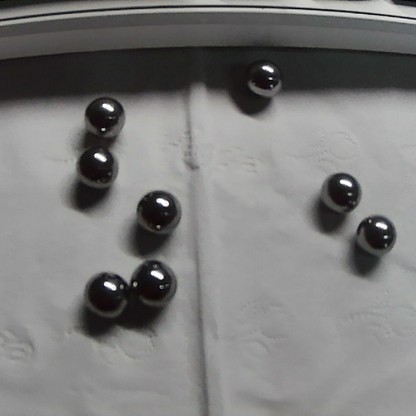ironball: (59, 140, 122, 199), (134, 181, 182, 239), (316, 164, 364, 218), (80, 88, 125, 145), (87, 269, 136, 319), (123, 255, 172, 303), (235, 61, 290, 101), (350, 216, 395, 256)
